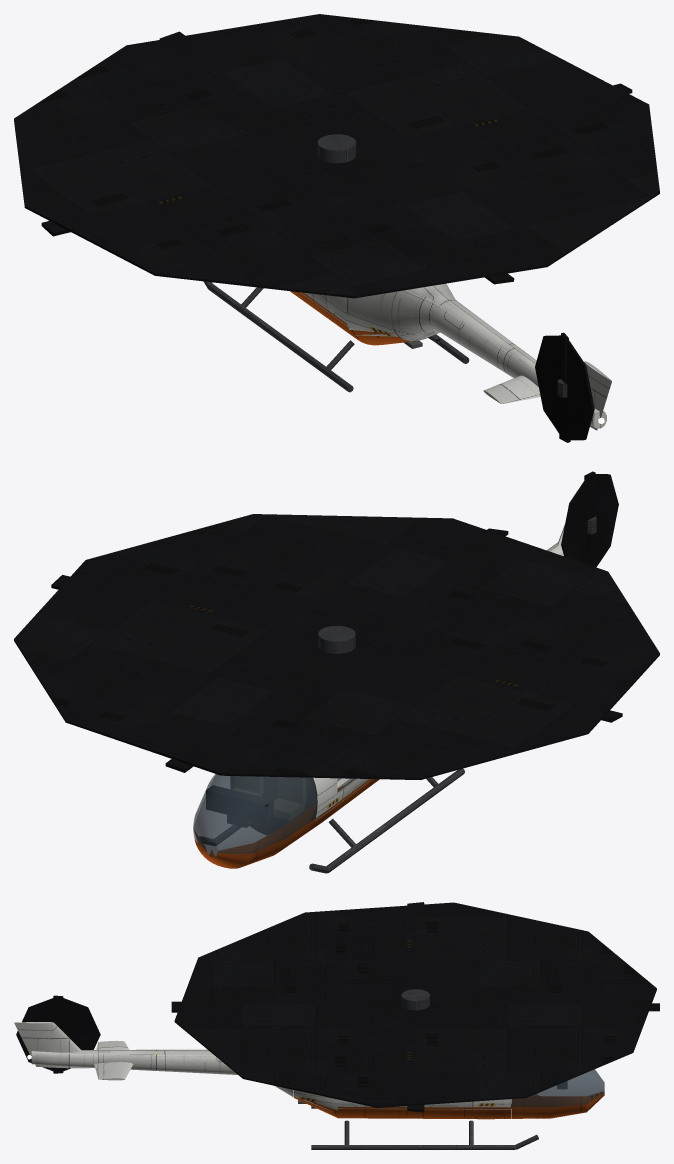
File: civil_helicopter.glb
3 renders of one model, top to bottom at view 1: azimuth 30°, elevation 25°; view 2: azimuth 150°, elevation 25°; view 3: azimuth 270°, elevation 25°, orthographic. The views are drawn at different scales.
Visible parts, largest first — view 1: rotor_disc.L2, boom.L0, tail_rotor_disc.L2, cabin.L0, skid_l.L0, stabiliser_l.L0, rotor_blades.L0, rotor_hub.L0; view 2: rotor_disc.L2, canopy.L0, canopy.L1, tail_rotor_disc.L2, cabin.L0, skid_l.L0, int_panel.L0, int_crew_seats.L0, canopy.L2, rotor_hub.L0, rotor_blades.L0; view 3: rotor_disc.L2, boom.L0, cabin.L0, canopy.L0, tail_rotor_disc.L2, canopy.L1, skid_r.L0, fin.L0, canopy.L2, fin.L1, stabiliser_r.L0, rotor_hub.L0 (+1 smaller).
Boxes of the visible parts, <box> form: rotor_disc.L2: <box>14,14,659,298</box>; boom.L0: <box>392,283,606,428</box>; tail_rotor_disc.L2: <box>535,335,594,440</box>; cabin.L0: <box>290,291,428,345</box>; skid_l.L0: <box>203,281,354,392</box>; stabiliser_l.L0: <box>483,375,539,403</box>; rotor_blades.L0: <box>41,31,632,284</box>; rotor_hub.L0: <box>317,134,356,163</box>; rotor_disc.L2: <box>14,514,659,779</box>; canopy.L0: <box>193,774,316,868</box>; canopy.L1: <box>193,774,316,868</box>; tail_rotor_disc.L2: <box>561,474,618,567</box>; cabin.L0: <box>231,776,379,834</box>; skid_l.L0: <box>309,768,464,873</box>; int_panel.L0: <box>206,786,273,823</box>; int_crew_seats.L0: <box>233,776,305,819</box>; canopy.L2: <box>194,803,316,856</box>; rotor_hub.L0: <box>318,625,355,653</box>; rotor_blades.L0: <box>51,528,622,772</box>; rotor_disc.L2: <box>174,902,656,1107</box>; boom.L0: <box>31,1049,293,1097</box>; cabin.L0: <box>294,1090,510,1119</box>; canopy.L0: <box>511,1069,604,1118</box>; tail_rotor_disc.L2: <box>16,998,100,1071</box>; canopy.L1: <box>511,1069,604,1109</box>; skid_r.L0: <box>311,1120,538,1149</box>; fin.L0: <box>14,1022,91,1068</box>; canopy.L2: <box>511,1091,604,1107</box>; fin.L1: <box>16,1022,87,1068</box>; stabiliser_r.L0: <box>98,1062,133,1080</box>; rotor_hub.L0: <box>401,989,429,1010</box>.
Bounding box in the file's own units: 11 × 3.33 × 14.55.
14 materials, 8 textured.
